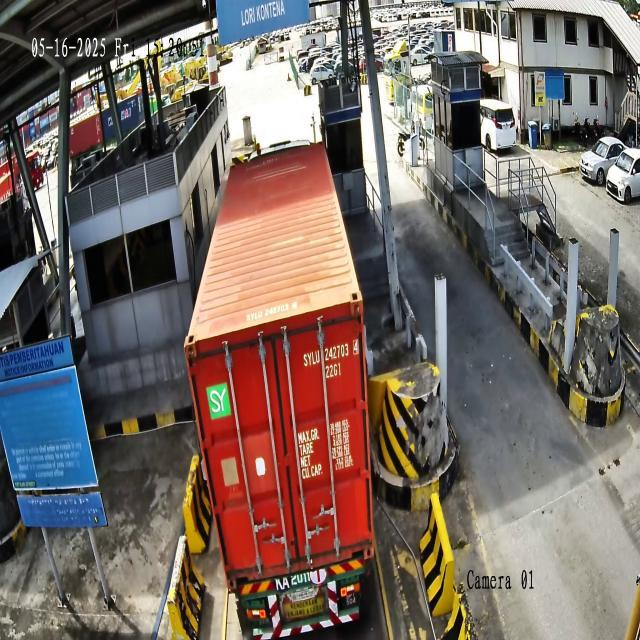ISO: (323, 360, 342, 380)
container_number: (302, 332, 361, 370)
